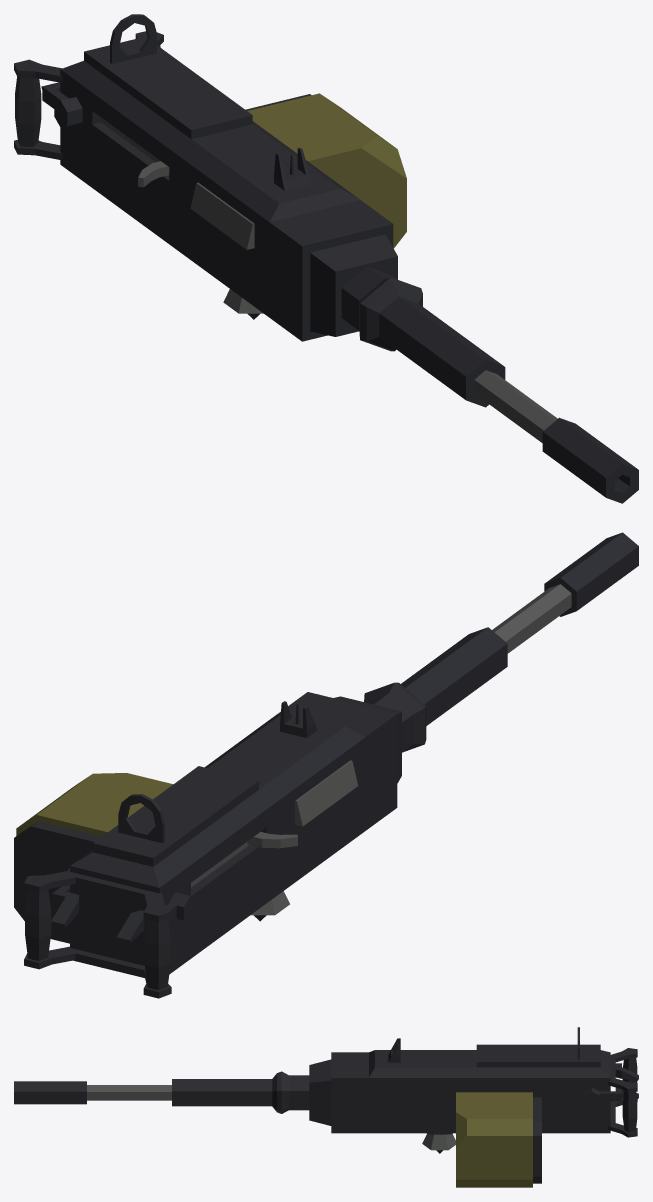
The model's file is LPWarPack_MountedMachineGun.fbx.
The picture shows the model from 3 angles, top to bottom: view 1: azimuth 30°, elevation 25°; view 2: azimuth 150°, elevation 25°; view 3: azimuth 270°, elevation 25°; orthographic projection. The views are drawn at different scales.
Visible parts, largest first — view 1: MountedMachineGun; view 2: MountedMachineGun; view 3: MountedMachineGun.
Boxes of the visible parts, x1,y1,x2,y2 form: MountedMachineGun: (14,14,638,503); MountedMachineGun: (14,532,638,998); MountedMachineGun: (14,1027,638,1187).
Size of the model in its own units: 26.41 by 22.39 by 101.
